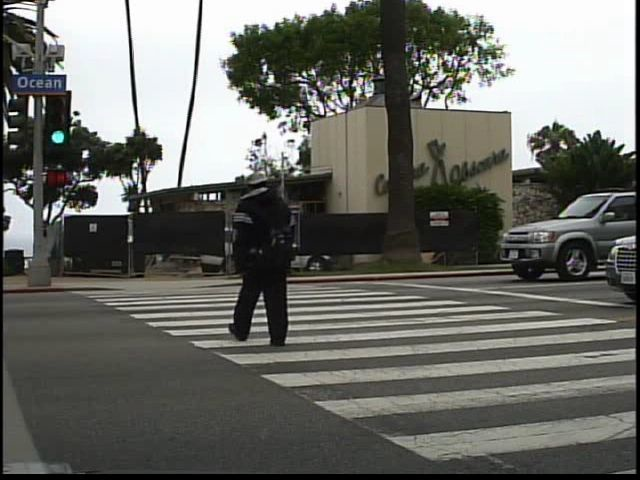person: (217, 163, 313, 355)
